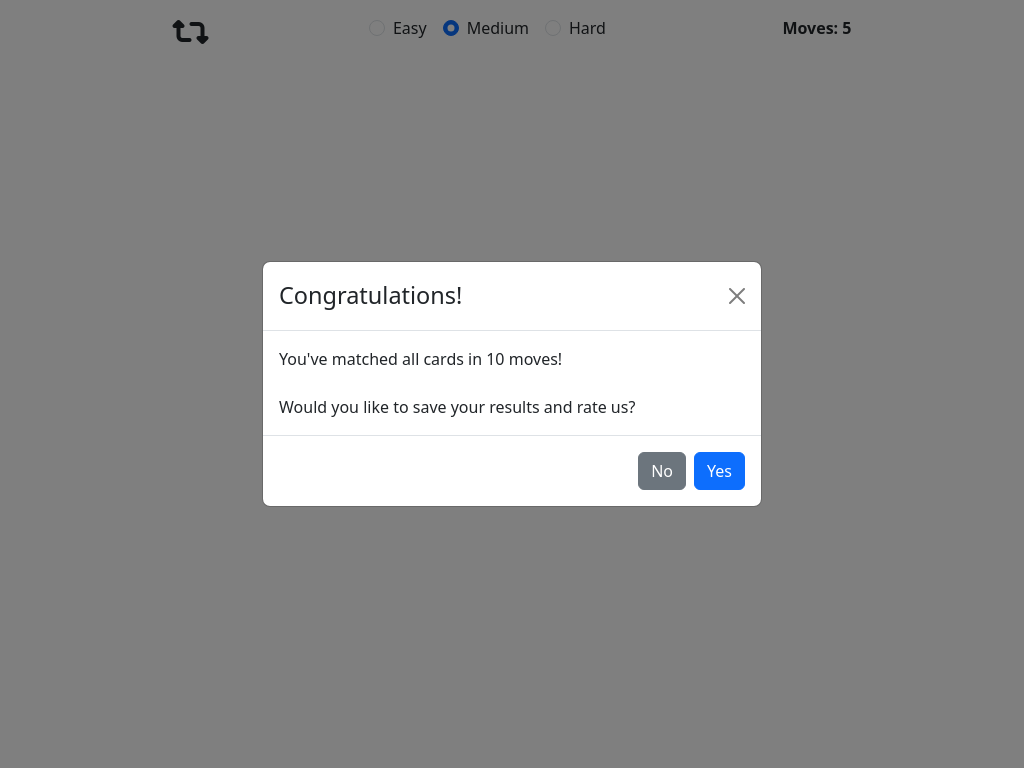
it: GameControl component › closes the modal when clicking the "No" button
Click the button "No".
click(662, 471)  # box left=638, top=452, right=686, bottom=490
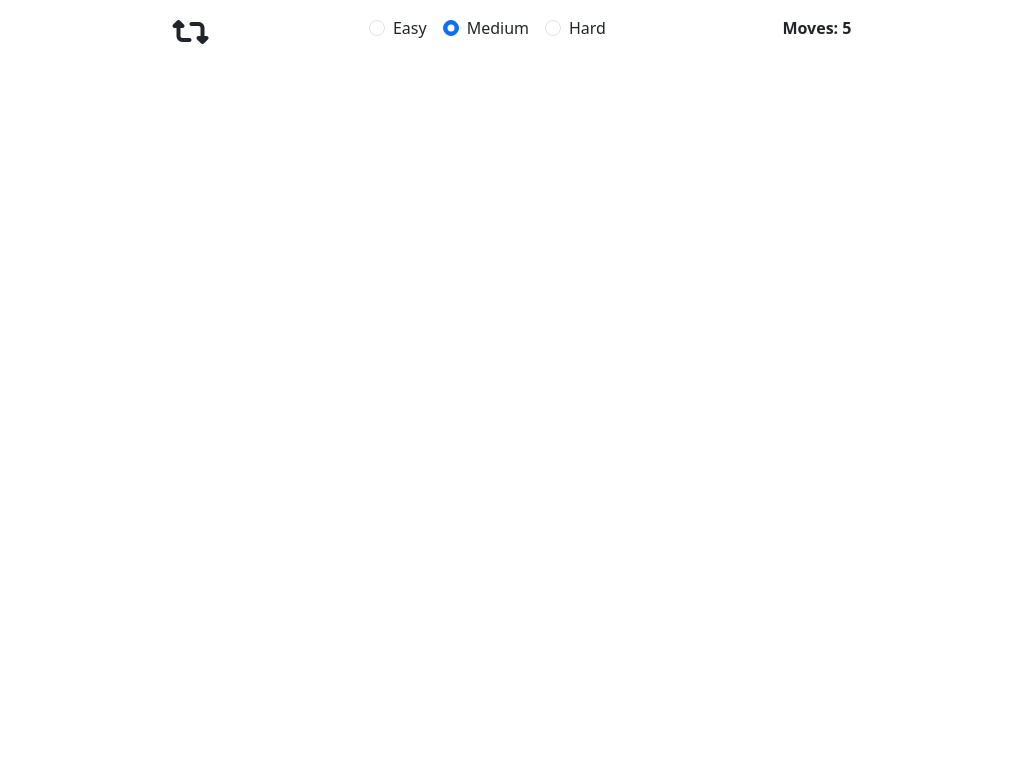
Expected: the text "Congratulations!" is gone
